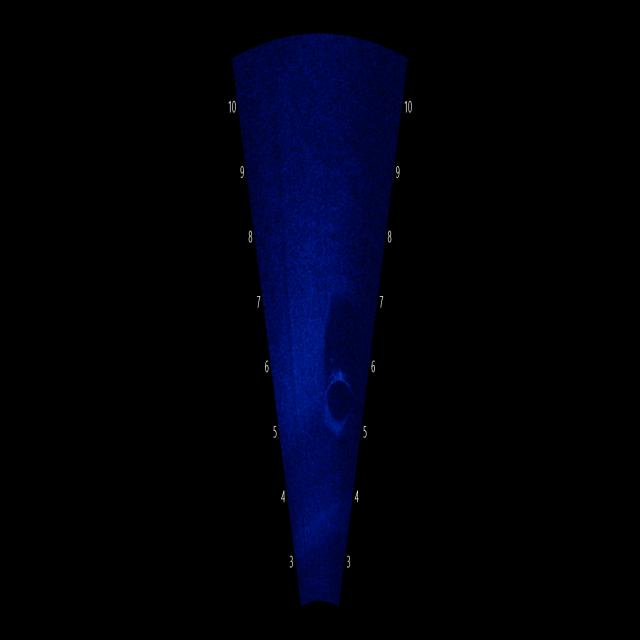circle: (319, 361, 360, 436)
